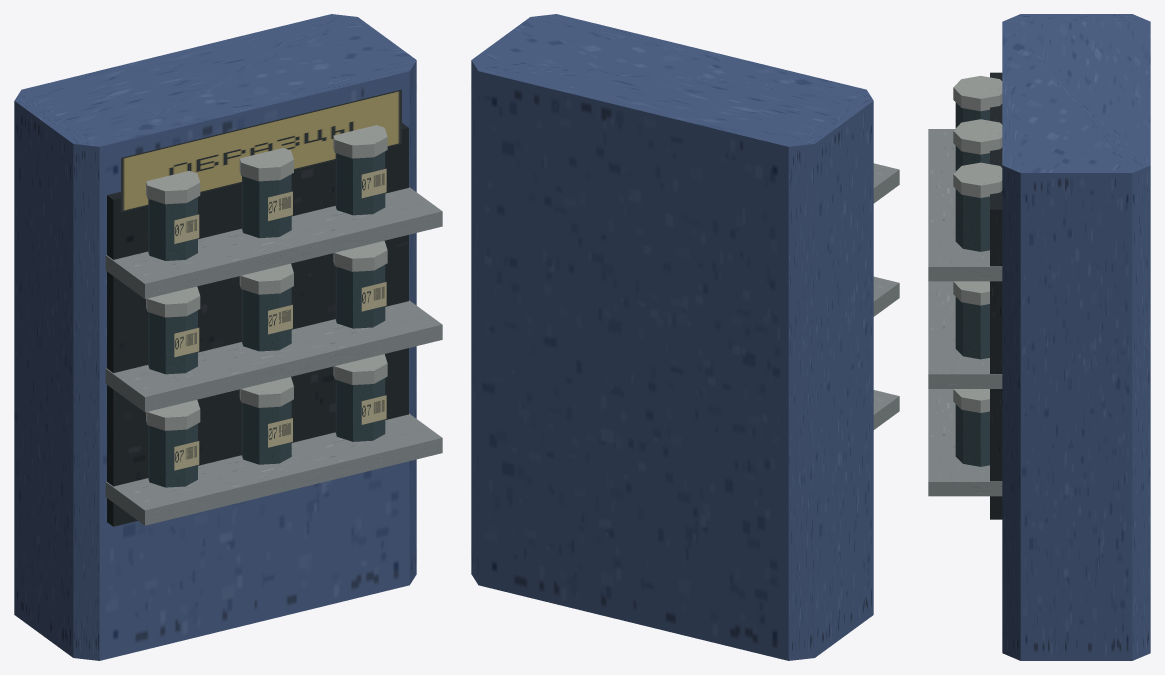
File: SampleCabinet.fbx
The picture shows the model from 3 angles, left to right: view 1: azimuth 30°, elevation 25°; view 2: azimuth 150°, elevation 25°; view 3: azimuth 270°, elevation 25°; orthographic projection. The views are drawn at different scales.
Parts seen in each view (by area): view 1: SampleCabinet; view 2: SampleCabinet; view 3: SampleCabinet.
Part boxes in pixels (x1,y1,x2,y2): SampleCabinet: (14, 14, 442, 660); SampleCabinet: (471, 14, 899, 660); SampleCabinet: (928, 14, 1150, 660).
Size of the model in its own units: 165 by 236 by 97.5.
